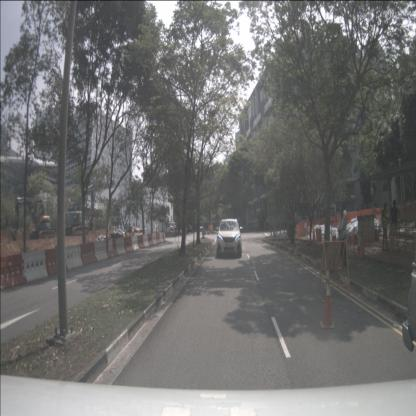human-pedestrian-adult: (390, 200, 399, 252)
movable_object-barrier: (0, 252, 25, 292), (23, 247, 48, 284), (45, 246, 68, 278), (64, 245, 84, 270), (80, 242, 98, 264), (94, 240, 109, 261), (105, 237, 119, 258), (115, 237, 127, 256), (124, 236, 134, 252), (130, 235, 140, 251), (137, 235, 145, 250), (142, 233, 149, 248), (152, 232, 158, 245), (147, 234, 154, 245), (158, 232, 164, 243), (156, 232, 161, 244)
movable_object-trafficcone: (319, 277, 336, 329), (320, 268, 334, 304)
vehicle-car: (217, 219, 242, 258), (127, 226, 138, 233), (187, 224, 193, 234)
